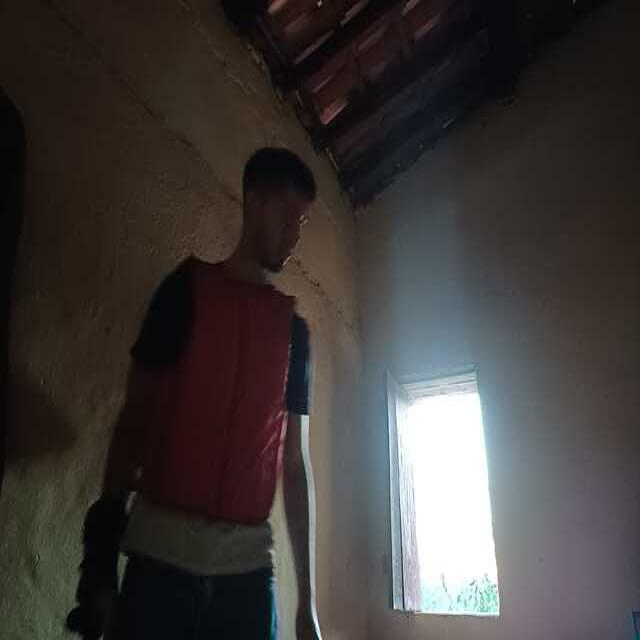colete: (145, 254, 287, 518)
pessoa: (92, 153, 332, 640)
